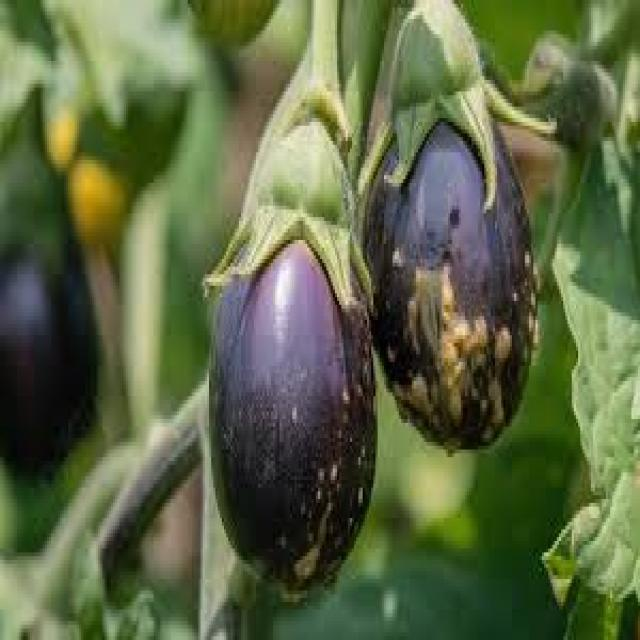Eggplant: (209, 2, 379, 597), (360, 0, 540, 456), (0, 82, 101, 492)
